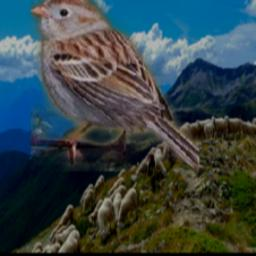Sparrow: (29, 0, 198, 171)
